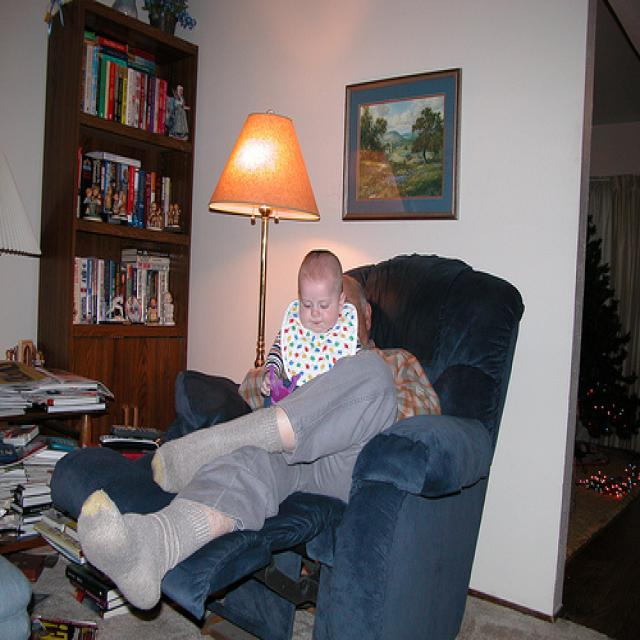chair: (52, 249, 521, 640)
person: (77, 274, 436, 615), (262, 251, 358, 401)
